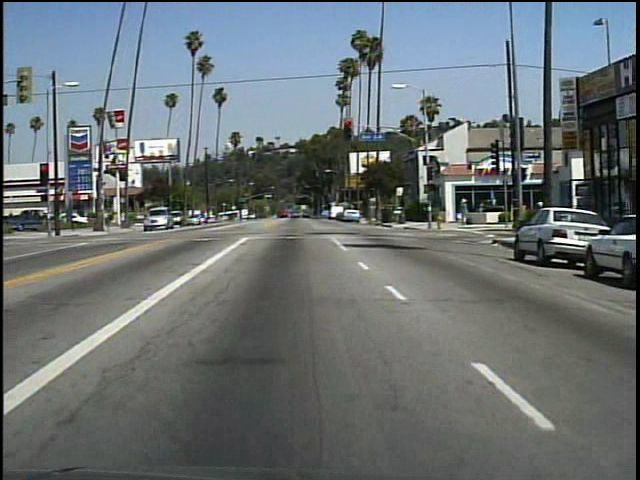person: (530, 194, 553, 235), (455, 195, 471, 227)
